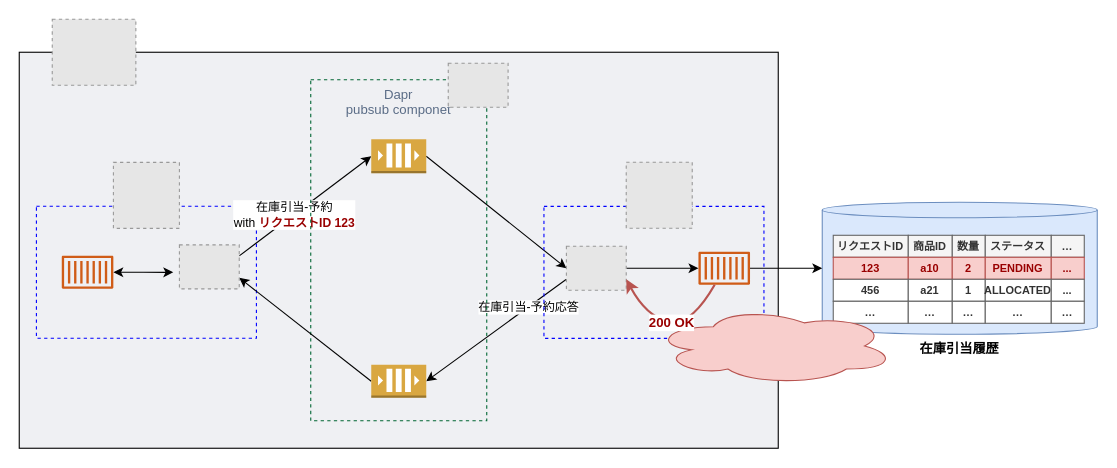
Some shapes in this 1117 by 468 pixel diagram are drawn without their labels. Grey dashed boxes stand in for pictures. The shapes that lost their labels are listed below. From the top down, each one's centre as x and y in pixels, then its label:
At [398,155]: "在庫Queue".
At [87,271]: "注文サービス".
At [724,267]: "在庫サービス".
At [773,345]: "リクエストID 123 が 既に履歴に登録されている場合、 処理せずに200 OKで折り返す".
At [398,381]: "注文Queue".
